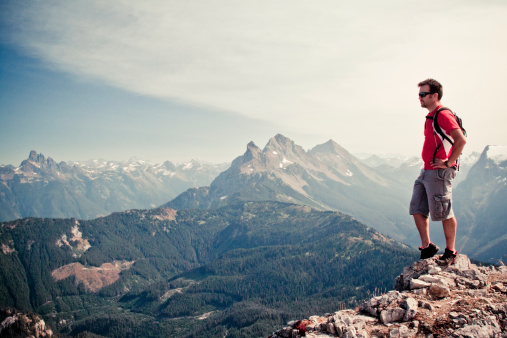em pe: (408, 76, 468, 255)
